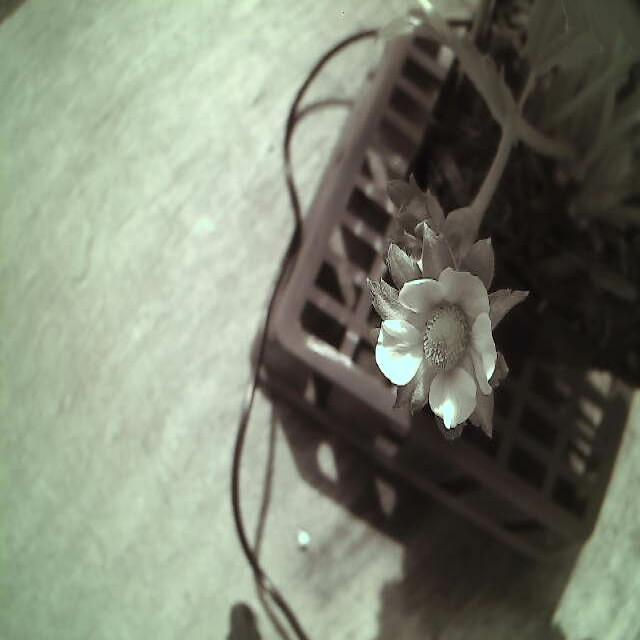flower: (376, 272, 522, 439)
